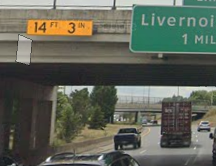1: (32, 20, 38, 35)
3: (65, 21, 76, 35)
4: (37, 21, 47, 34)
overheadsign: (25, 19, 93, 36)
